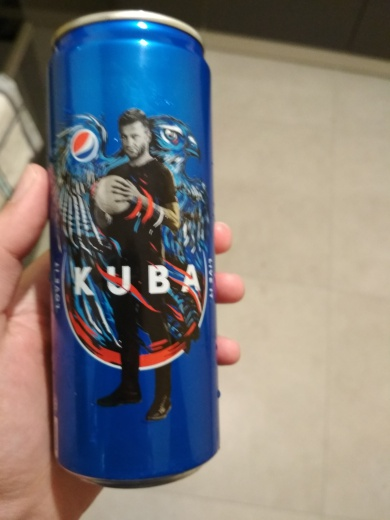pepsi: (40, 9, 223, 494)
